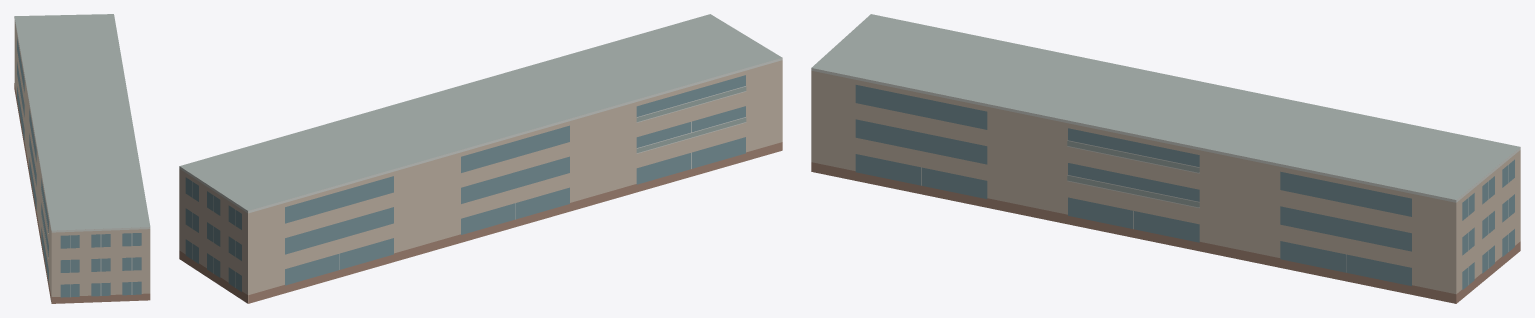
Rendered from survey-upis-33012144.glb.
3 views of the same model, side by side, from view 1: azimuth 30°, elevation 25°; view 2: azimuth 150°, elevation 25°; view 3: azimuth 270°, elevation 25° (orthographic). The views are drawn at different scales.
Parts seen in each view (by area): view 1: survey-upis-33012144.tmp; view 2: survey-upis-33012144.tmp; view 3: survey-upis-33012144.tmp.
Boxes of the visible parts, x1,y1,x2,y2 form: survey-upis-33012144.tmp: [14, 14, 150, 303]; survey-upis-33012144.tmp: [179, 14, 782, 303]; survey-upis-33012144.tmp: [811, 14, 1520, 303].
Size of the model in its own units: 35.16 by 9.15 by 56.64.
